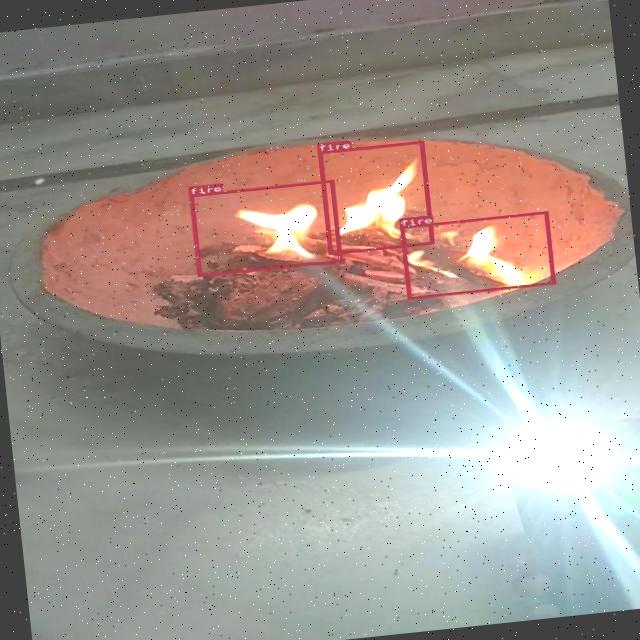fire: (188, 178, 342, 276), (400, 210, 554, 298), (317, 140, 433, 254)
